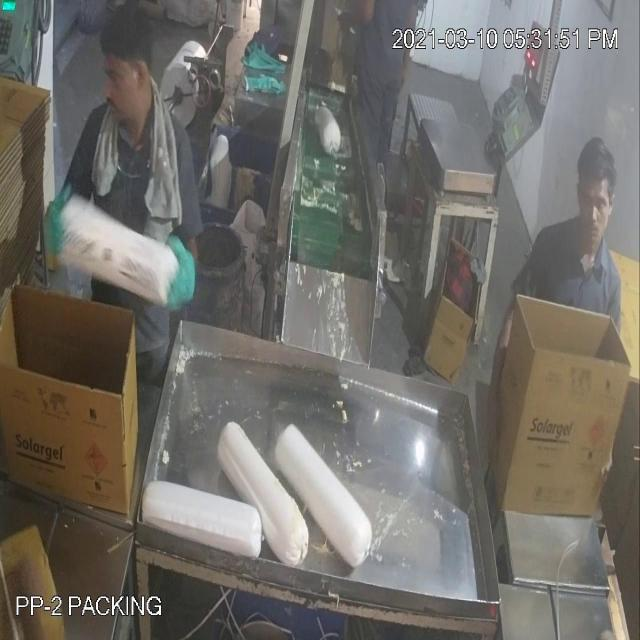No_Gloves: (470, 276, 520, 471)
